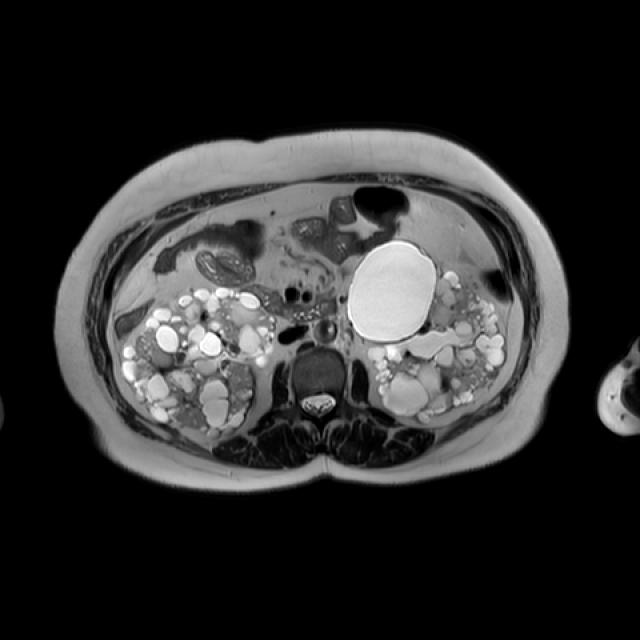sag: (119, 287, 274, 437)
sol: (347, 242, 506, 420)
